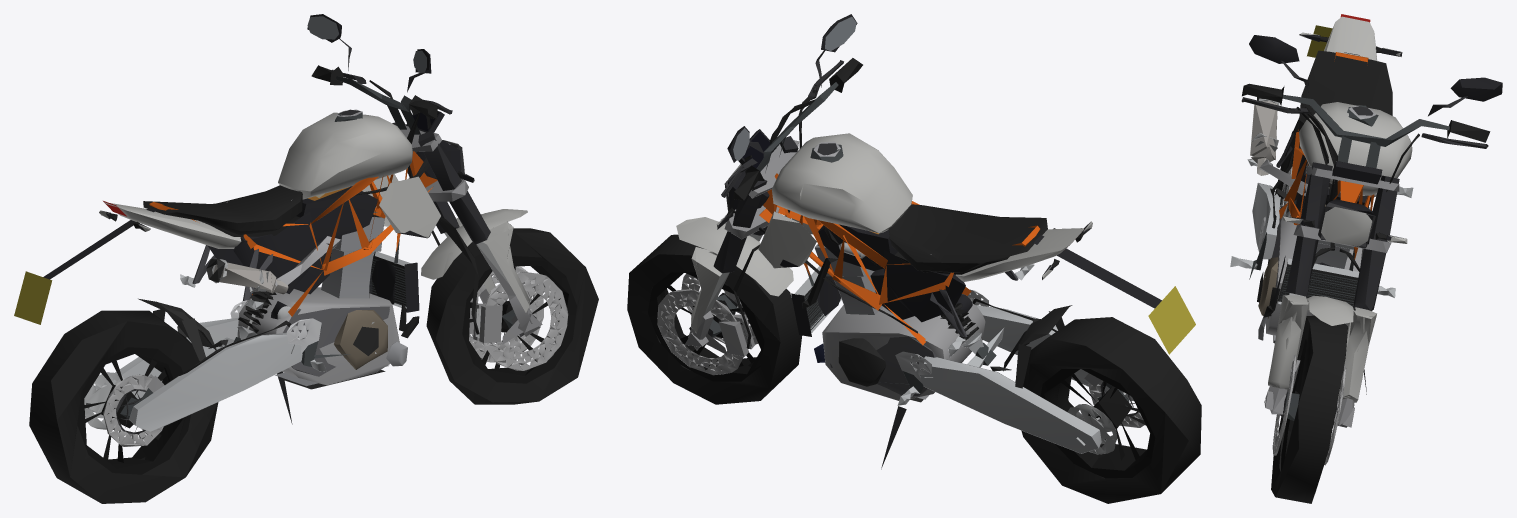
File: SM_Prop_house_bike_9_LOD1.glb
3 views of the same model, side by side, from view 1: azimuth 30°, elevation 25°; view 2: azimuth 150°, elevation 25°; view 3: azimuth 270°, elevation 25° (orthographic). The views are drawn at different scales.
Parts seen in each view (by area): view 1: SM_Prop_house_bike_9_LOD1; view 2: SM_Prop_house_bike_9_LOD1; view 3: SM_Prop_house_bike_9_LOD1.
Part boxes in pixels (x1,y1,x2,y2): SM_Prop_house_bike_9_LOD1: [14, 14, 598, 503]; SM_Prop_house_bike_9_LOD1: [627, 14, 1201, 503]; SM_Prop_house_bike_9_LOD1: [1230, 14, 1502, 503].
Bounding box in the file's own units: 2.05 × 1.38 × 0.8353.
